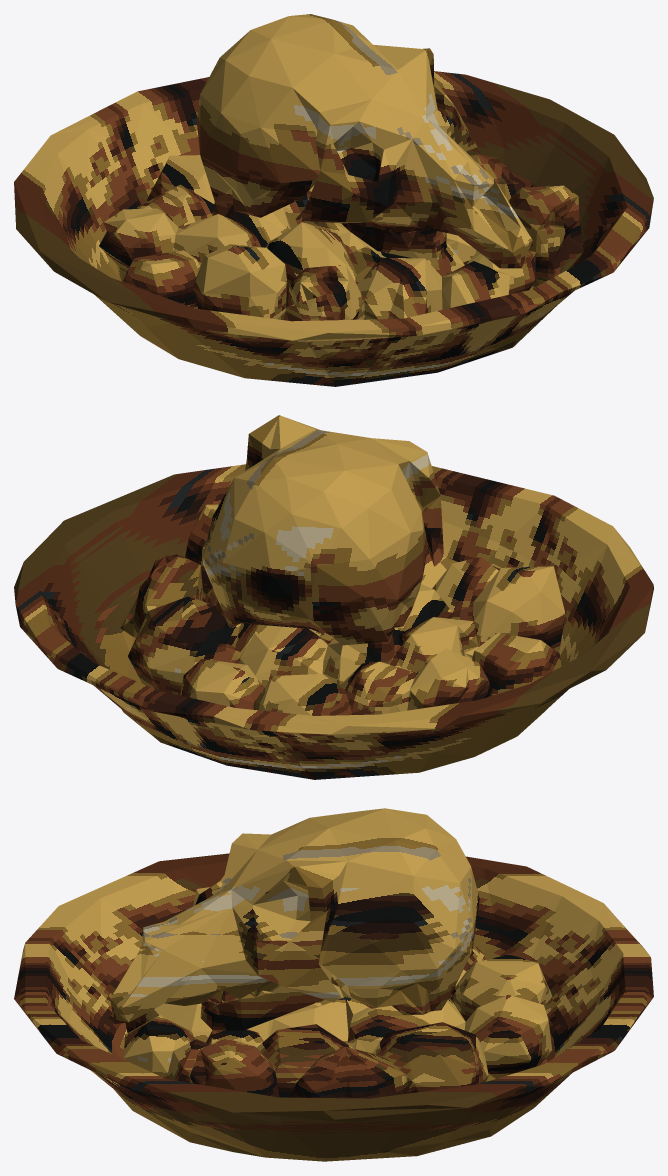
File: bones.glb
3 views of the same model, one above another, from view 1: azimuth 30°, elevation 25°; view 2: azimuth 150°, elevation 25°; view 3: azimuth 270°, elevation 25° (orthographic).
Visible parts, largest first — view 1: bones; view 2: bones; view 3: bones.
Part boxes in pixels (x1,y1,x2,y2): bones: (14,14,653,386); bones: (14,415,653,779); bones: (14,808,653,1161).
Size of the model in its own units: 0.4243 by 0.18 by 0.4247.
1 material, 1 textured.
